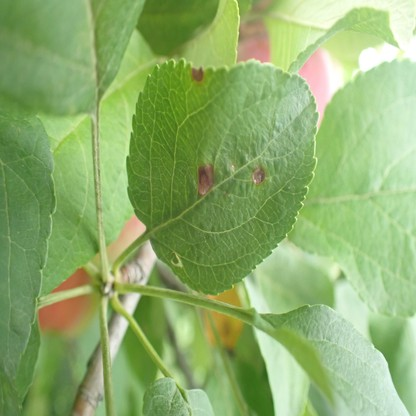frogeye_leaf_spot: (199, 165, 215, 195), (252, 168, 265, 186), (191, 67, 204, 82)
